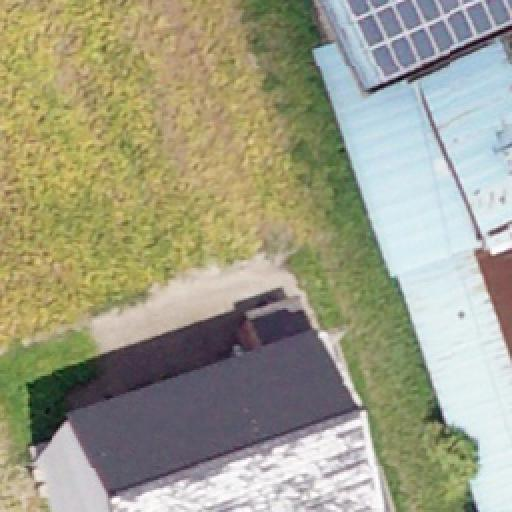solar-panel: (345, 1, 511, 79)
